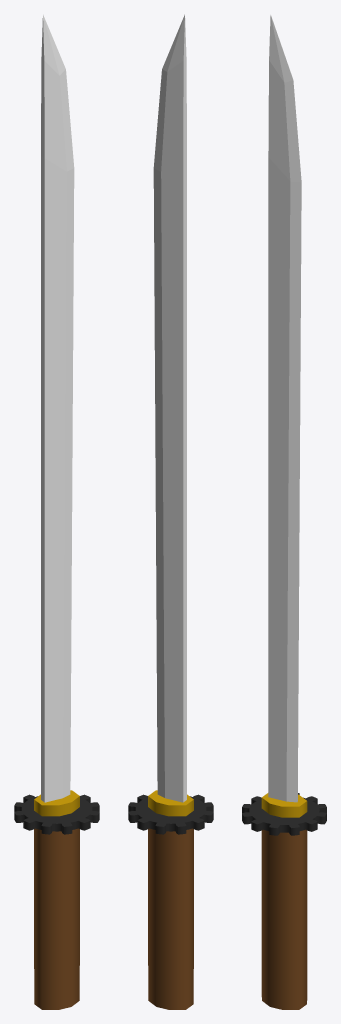
The model's file is Katana.fbx.
3 renders of one model, left to right at view 1: azimuth 30°, elevation 25°; view 2: azimuth 150°, elevation 25°; view 3: azimuth 330°, elevation 25°, orthographic.
Parts seen in each view (by area): view 1: Katana; view 2: Katana; view 3: Katana.
Part boxes in pixels (x1,y1,x2,y2): Katana: [14, 14, 99, 1009]; Katana: [128, 14, 213, 1009]; Katana: [242, 15, 326, 1009].
Size of the model in its own units: 15.64 by 200 by 15.64.
